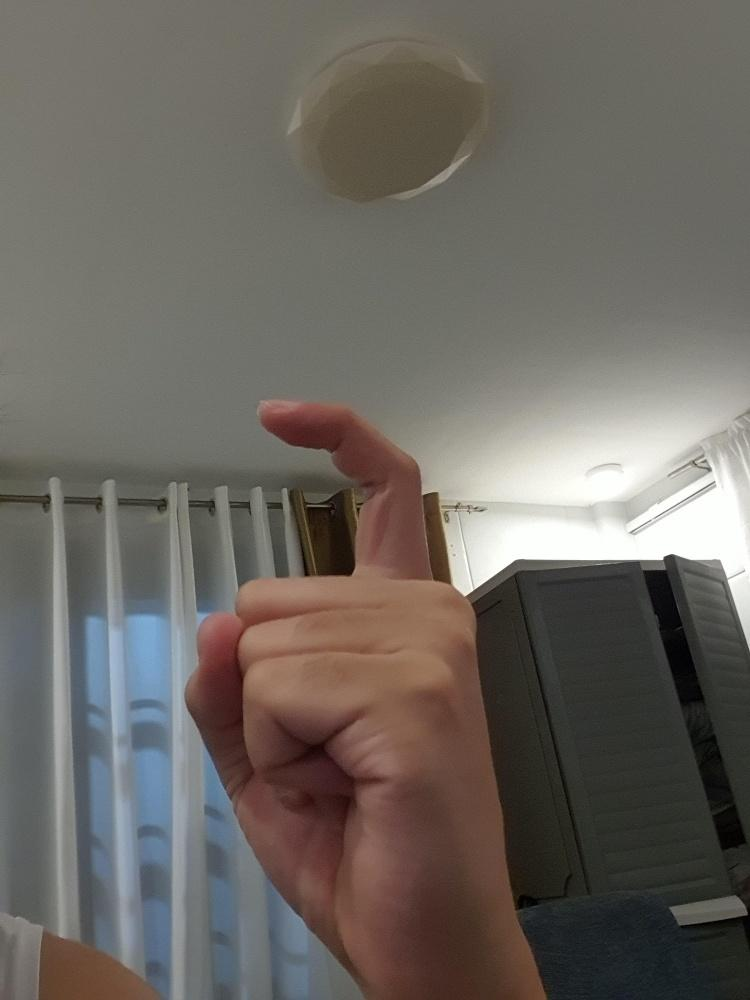x: (181, 391, 510, 987)
